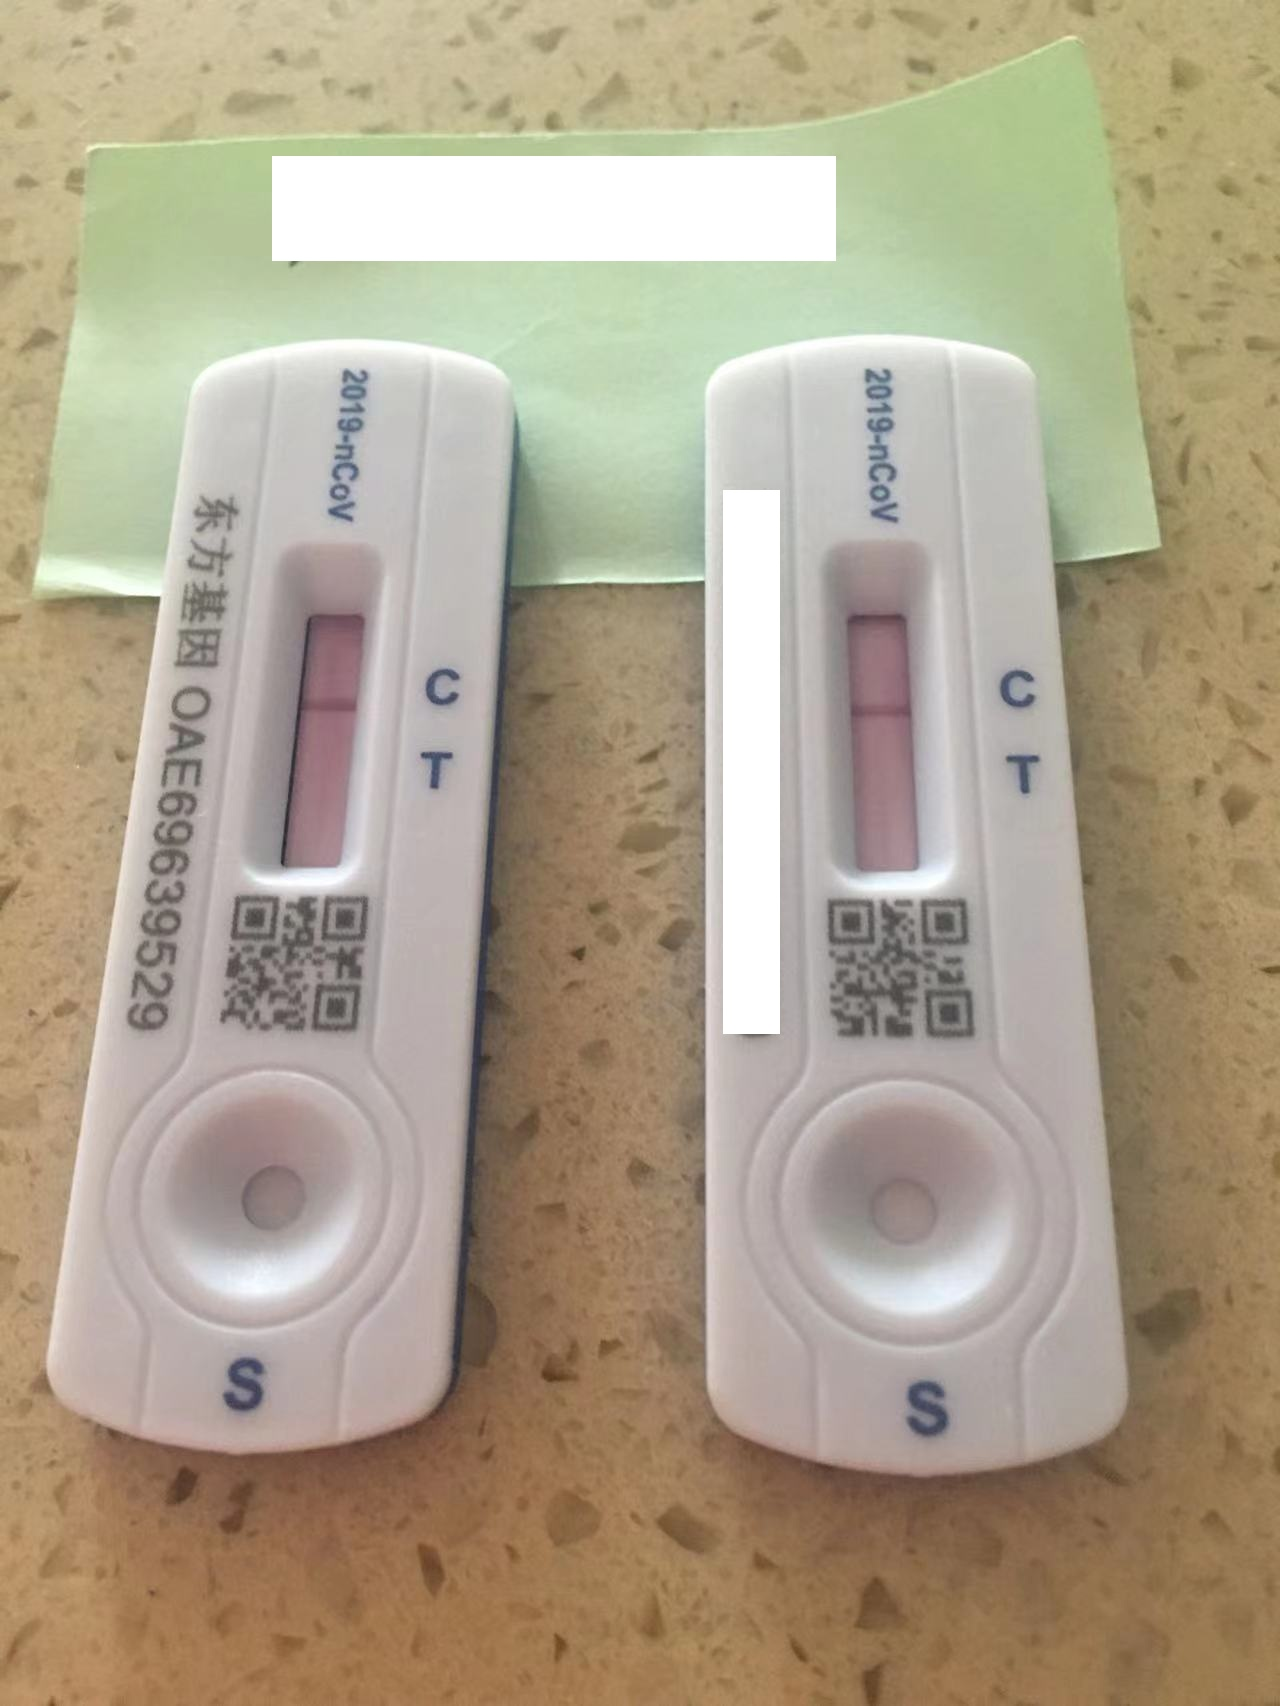negative: (823, 539, 944, 909), (264, 542, 385, 903)
